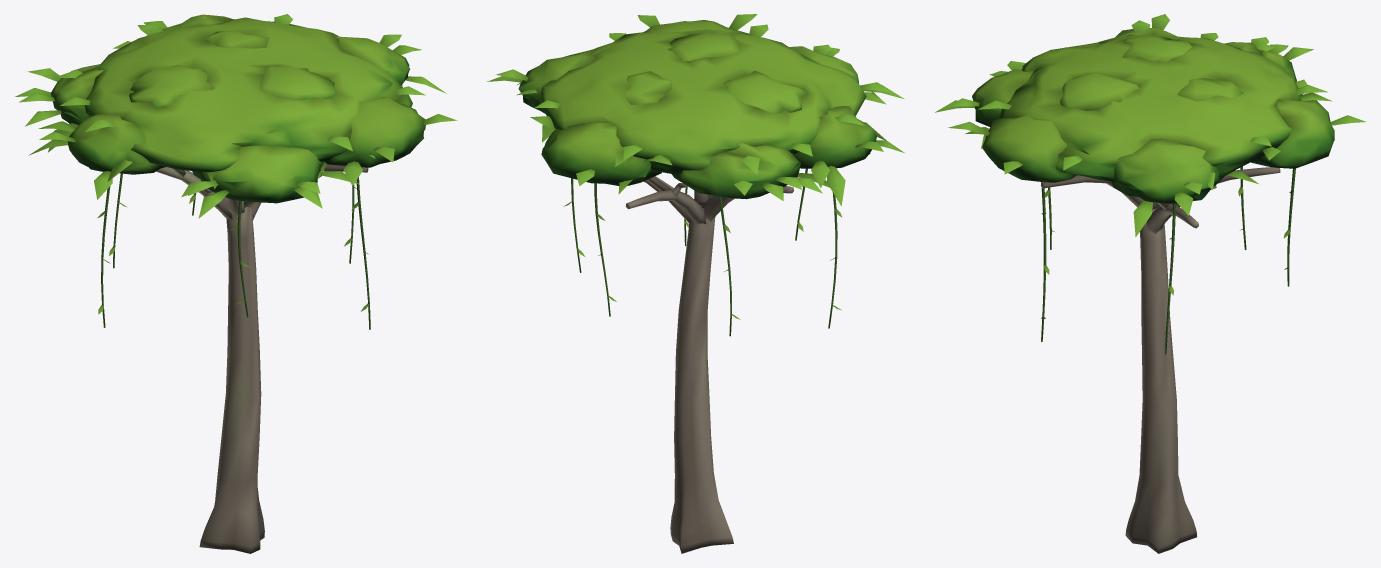
The model's file is jungle_tree_b.glb.
The picture shows the model from 3 angles, left to right: view 1: azimuth 30°, elevation 25°; view 2: azimuth 150°, elevation 25°; view 3: azimuth 270°, elevation 25°; orthographic projection. The views are drawn at different scales.
Visible parts, largest first — view 1: jungle_tree_b; view 2: jungle_tree_b; view 3: jungle_tree_b.
Boxes of the visible parts, box(x1,y1,x2,y2) form: jungle_tree_b: box(15, 14, 457, 553); jungle_tree_b: box(487, 14, 904, 553); jungle_tree_b: box(935, 14, 1365, 553).
Bounding box in the file's own units: 8.8 × 10.26 × 8.6.
